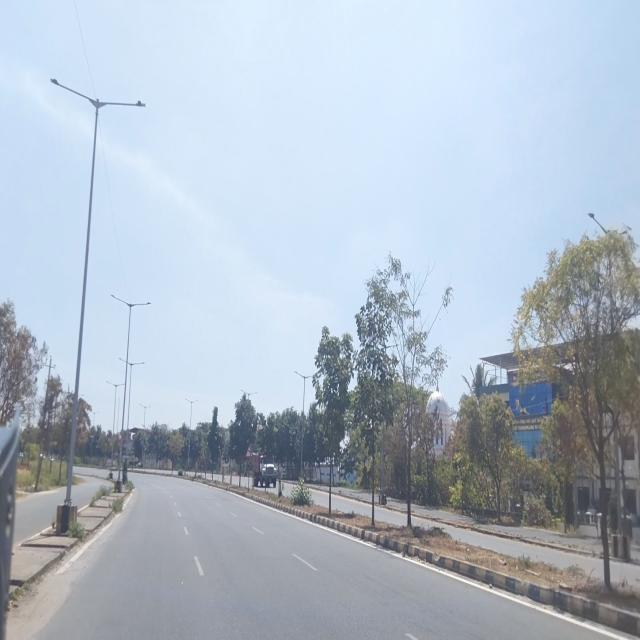bien_cam: (244, 441, 253, 459)
